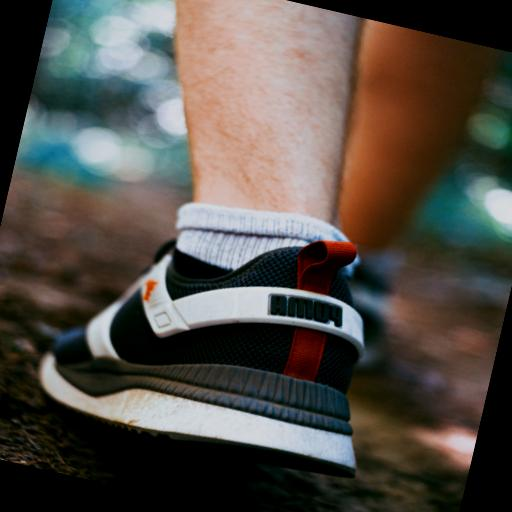shoe: (39, 242, 362, 476)
